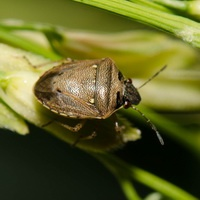insect: (34, 58, 140, 118)
